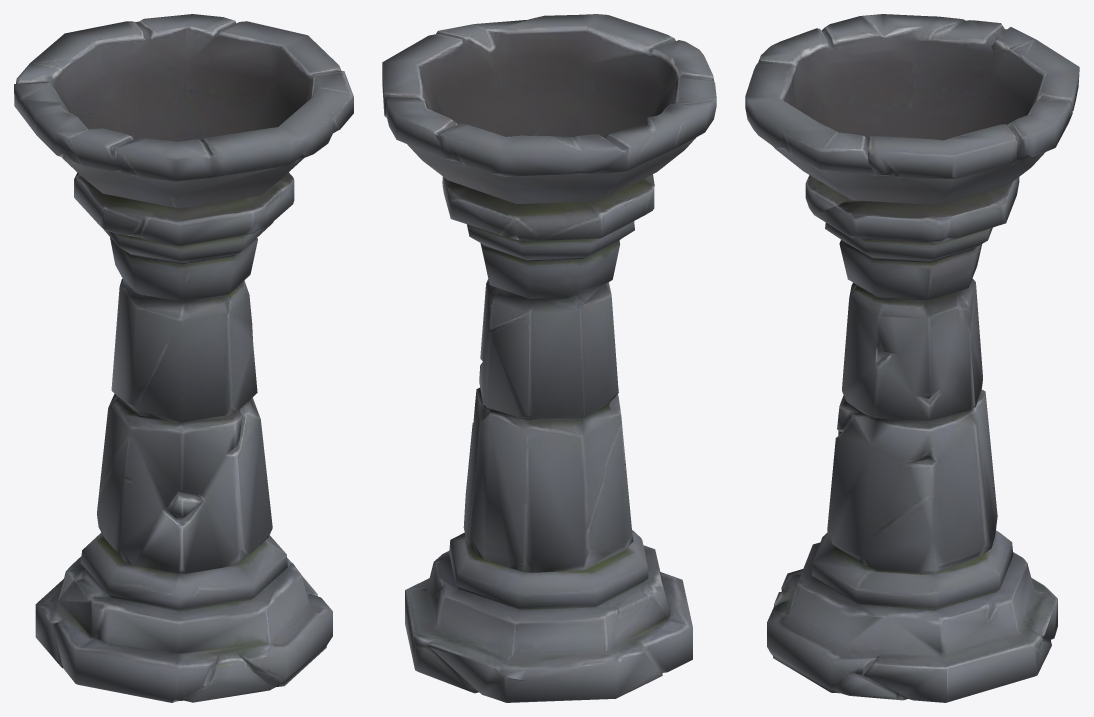
Rendered from yumi_brazier_stand.glb.
3 renders of one model, left to right at view 1: azimuth 30°, elevation 25°; view 2: azimuth 150°, elevation 25°; view 3: azimuth 270°, elevation 25°, orthographic.
Visible parts, largest first — view 1: tripo_node_6b4d01f9-ad48-4719-8ca1-b532f61f94f6; view 2: tripo_node_6b4d01f9-ad48-4719-8ca1-b532f61f94f6; view 3: tripo_node_6b4d01f9-ad48-4719-8ca1-b532f61f94f6.
Boxes of the visible parts, bbox=[...] form: tripo_node_6b4d01f9-ad48-4719-8ca1-b532f61f94f6: bbox=[14, 14, 353, 702]; tripo_node_6b4d01f9-ad48-4719-8ca1-b532f61f94f6: bbox=[382, 14, 716, 702]; tripo_node_6b4d01f9-ad48-4719-8ca1-b532f61f94f6: bbox=[745, 14, 1079, 702].
Bounding box in the file's own units: 0.7047 × 1.3 × 0.7047.
Materials: 1 (1 with a texture image).
